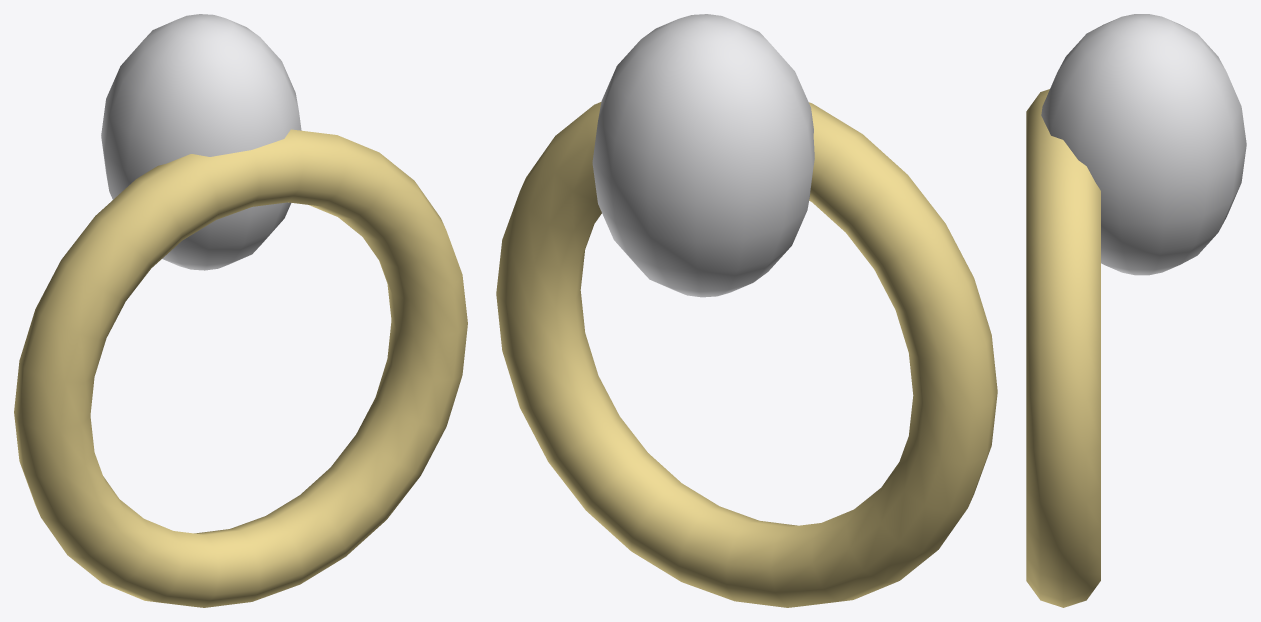
The model's file is VM-ACC-FS6.glb.
The picture shows the model from 3 angles, left to right: view 1: azimuth 30°, elevation 25°; view 2: azimuth 150°, elevation 25°; view 3: azimuth 270°, elevation 25°; orthographic projection. The views are drawn at different scales.
Visible parts, largest first — view 1: Anillo Micropavé Liso Petite Dorado; view 2: Anillo Micropavé Liso Petite Dorado; view 3: Anillo Micropavé Liso Petite Dorado.
Boxes of the visible parts, left/top/right/bottom form: Anillo Micropavé Liso Petite Dorado: left=14, top=14, right=467, bottom=607; Anillo Micropavé Liso Petite Dorado: left=496, top=14, right=997, bottom=607; Anillo Micropavé Liso Petite Dorado: left=1026, top=14, right=1246, bottom=607.
Bounding box in the file's own units: 0.0392 × 0.0465 × 0.0165.
